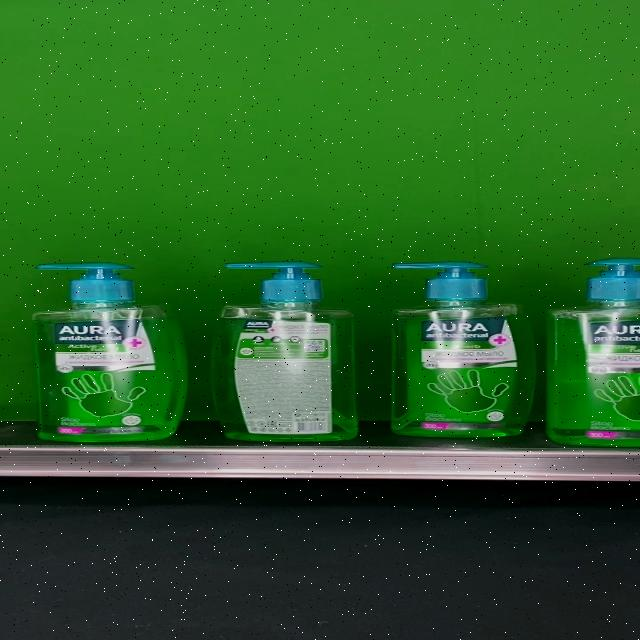Bottle: (34, 261, 190, 441), (212, 259, 360, 442), (390, 261, 537, 438)
Cap: (225, 260, 323, 302), (37, 262, 135, 302), (390, 262, 488, 302)
